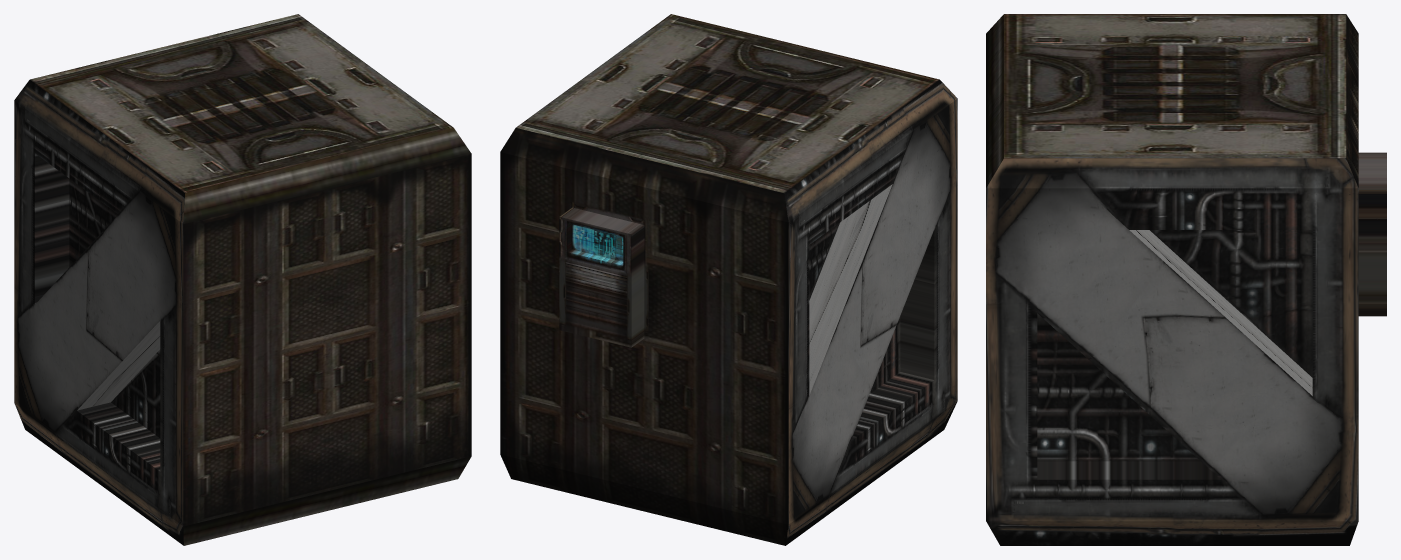
Rendered from Cassa3.fbx.
3 views of the same model, side by side, from view 1: azimuth 30°, elevation 25°; view 2: azimuth 150°, elevation 25°; view 3: azimuth 270°, elevation 25° (orthographic). The views are drawn at different scales.
Parts seen in each view (by area): view 1: polySurface1; view 2: polySurface1; view 3: polySurface1.
Part boxes in pixels (bbox=[...]): polySurface1: bbox=[14, 14, 471, 545]; polySurface1: bbox=[500, 14, 957, 545]; polySurface1: bbox=[986, 14, 1386, 545].
Bounding box in the file's own units: 2 × 2.32 × 2.18.
